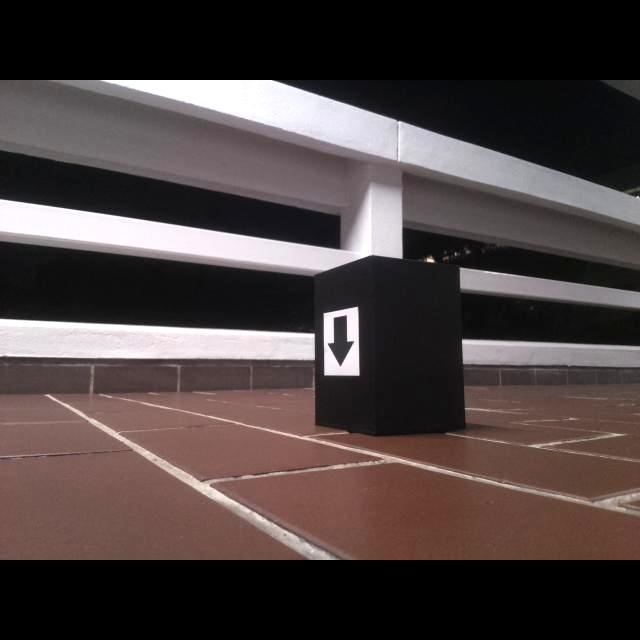DOWN: (327, 314, 355, 368)
